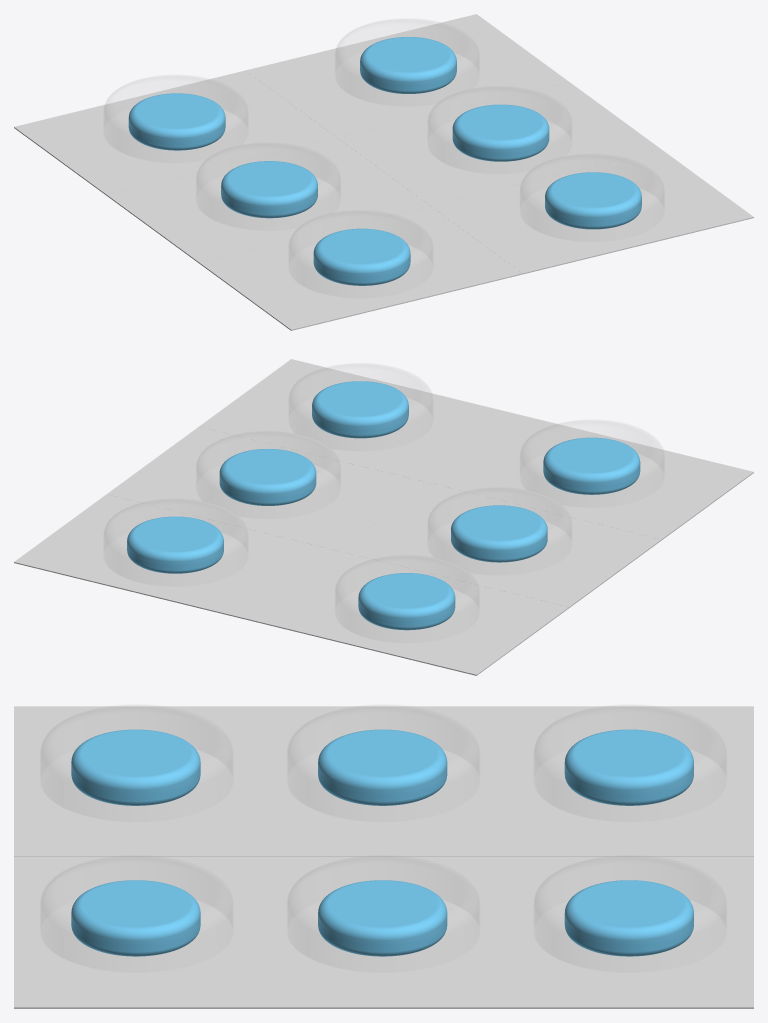
Rendered from Round_Pill_2x3_Blue.glb.
3 views of the same model, one above another, from view 1: azimuth 30°, elevation 25°; view 2: azimuth 150°, elevation 25°; view 3: azimuth 270°, elevation 25° (orthographic). The views are drawn at different scales.
Visible parts, largest first — view 1: Round_Pill_Base_2x3, Round_Pill_2x3, Round_Pill_Shell_2x3, Round_Pill_Lid_2x3; view 2: Round_Pill_Base_2x3, Round_Pill_2x3, Round_Pill_Lid_2x3, Round_Pill_Shell_2x3; view 3: Round_Pill_Base_2x3, Round_Pill_2x3, Round_Pill_Shell_2x3, Round_Pill_Lid_2x3.
Boxes of the visible parts, box(x1,y1,x2,y2) form: Round_Pill_Base_2x3: box(14, 14, 753, 330); Round_Pill_2x3: box(128, 37, 641, 285); Round_Pill_Shell_2x3: box(104, 19, 663, 264); Round_Pill_Lid_2x3: box(103, 51, 664, 298); Round_Pill_Base_2x3: box(14, 359, 753, 675); Round_Pill_2x3: box(127, 381, 640, 630); Round_Pill_Lid_2x3: box(103, 397, 664, 643); Round_Pill_Shell_2x3: box(104, 363, 663, 609); Round_Pill_Base_2x3: box(14, 706, 753, 1008); Round_Pill_2x3: box(71, 729, 693, 956); Round_Pill_Shell_2x3: box(41, 705, 725, 928); Round_Pill_Lid_2x3: box(40, 749, 726, 972).
Size of the model in its own units: 6.8 by 0.4541 by 7.06.
